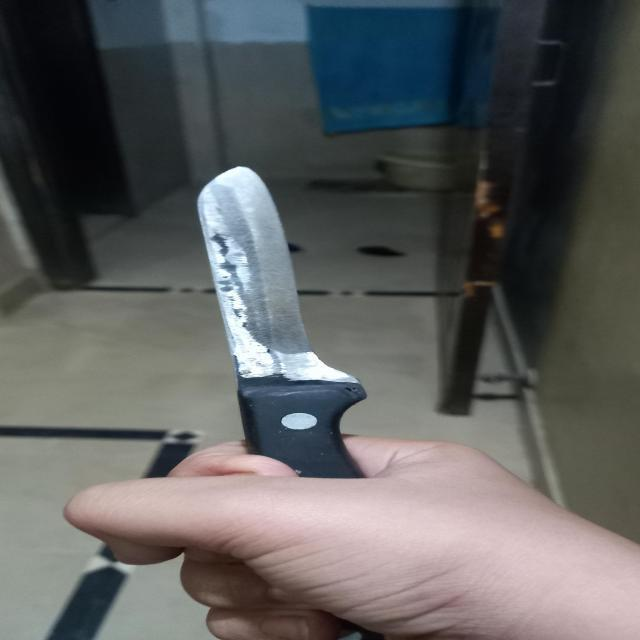knife: (160, 163, 398, 521)
